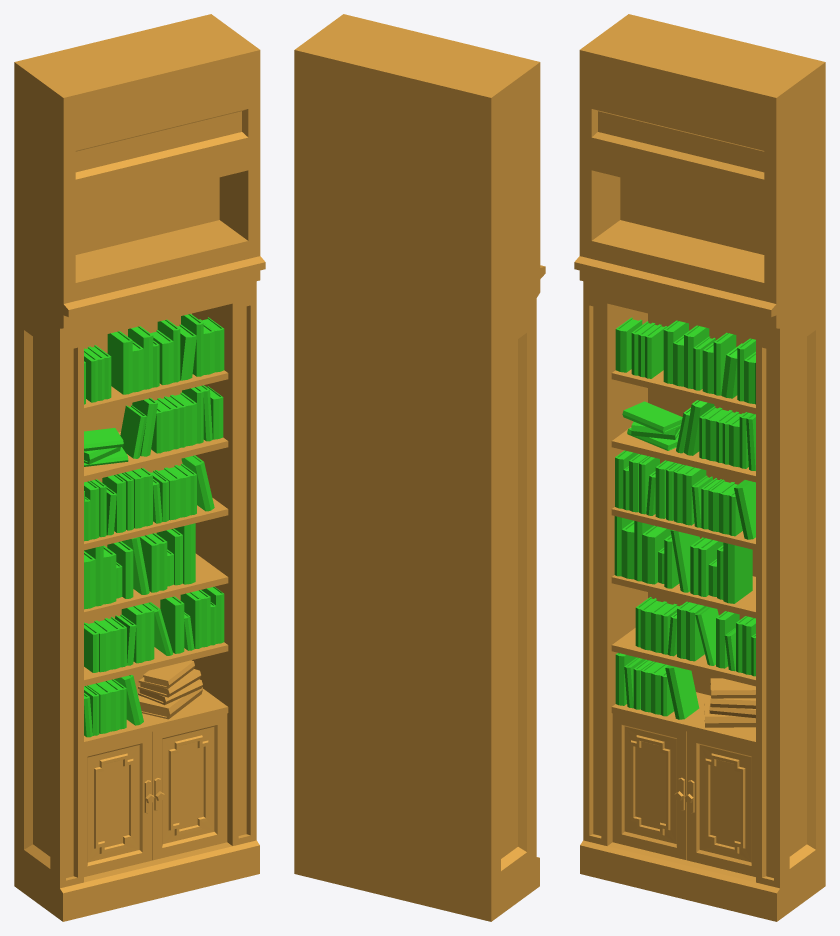
File: Sm_Bookcase_Tall_Modular_Cabinet_Filled_1m_A.fbx
The picture shows the model from 3 angles, left to right: view 1: azimuth 30°, elevation 25°; view 2: azimuth 150°, elevation 25°; view 3: azimuth 330°, elevation 25°; orthographic projection.
Visible parts, largest first — view 1: library-tall-modular-cabinet-filled-1m-a-base, library-tall-modular-cabinet-filled-1m-a-door-r, library-tall-modular-cabinet-filled-1m-a-door-l; view 2: library-tall-modular-cabinet-filled-1m-a-base; view 3: library-tall-modular-cabinet-filled-1m-a-base, library-tall-modular-cabinet-filled-1m-a-door-l, library-tall-modular-cabinet-filled-1m-a-door-r.
Part boxes in pixels (x1,y1,x2,y2): library-tall-modular-cabinet-filled-1m-a-base: (14,14,265,921); library-tall-modular-cabinet-filled-1m-a-door-r: (152,713,227,860); library-tall-modular-cabinet-filled-1m-a-door-l: (84,731,154,876); library-tall-modular-cabinet-filled-1m-a-base: (294,14,545,921); library-tall-modular-cabinet-filled-1m-a-base: (574,14,825,921); library-tall-modular-cabinet-filled-1m-a-door-l: (612,713,686,860); library-tall-modular-cabinet-filled-1m-a-door-r: (684,731,755,876).
Bounding box in the file's own units: 1 × 4 × 0.4778.
